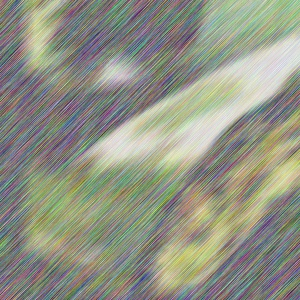Leaf_Blast: (79, 52, 239, 271)
